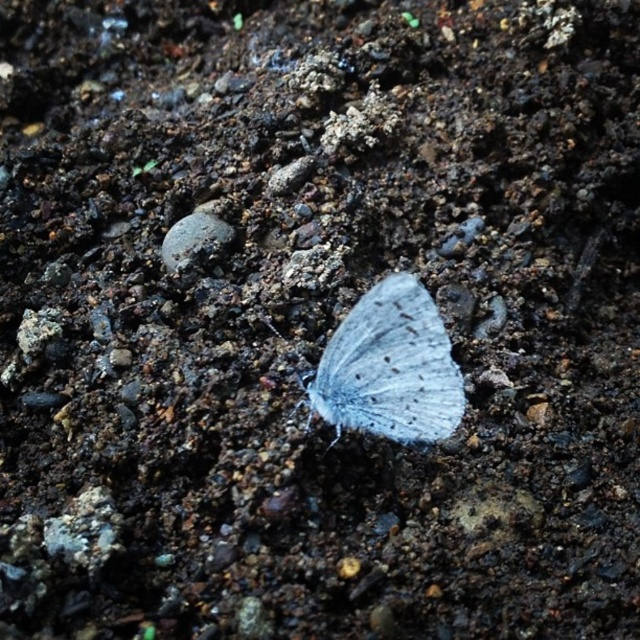Butterfly: (265, 267, 467, 448)
